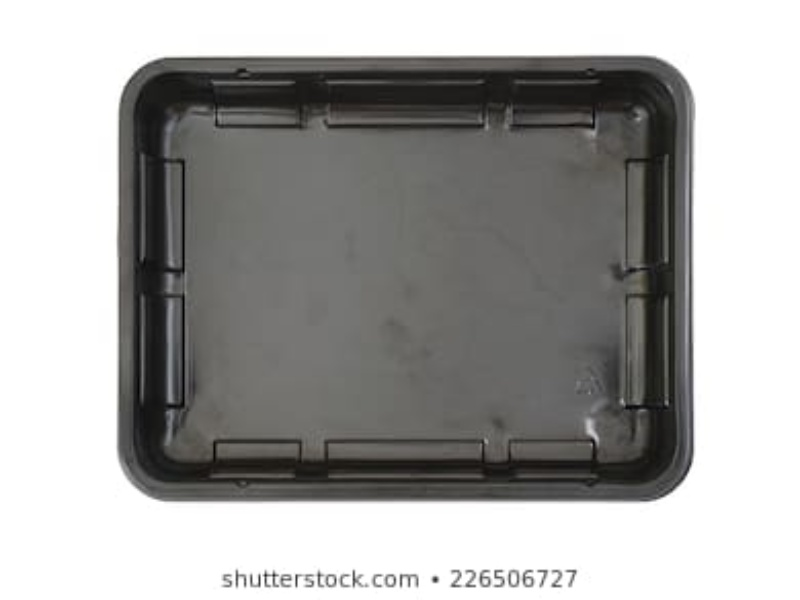plastic-tray: (109, 52, 700, 502)
